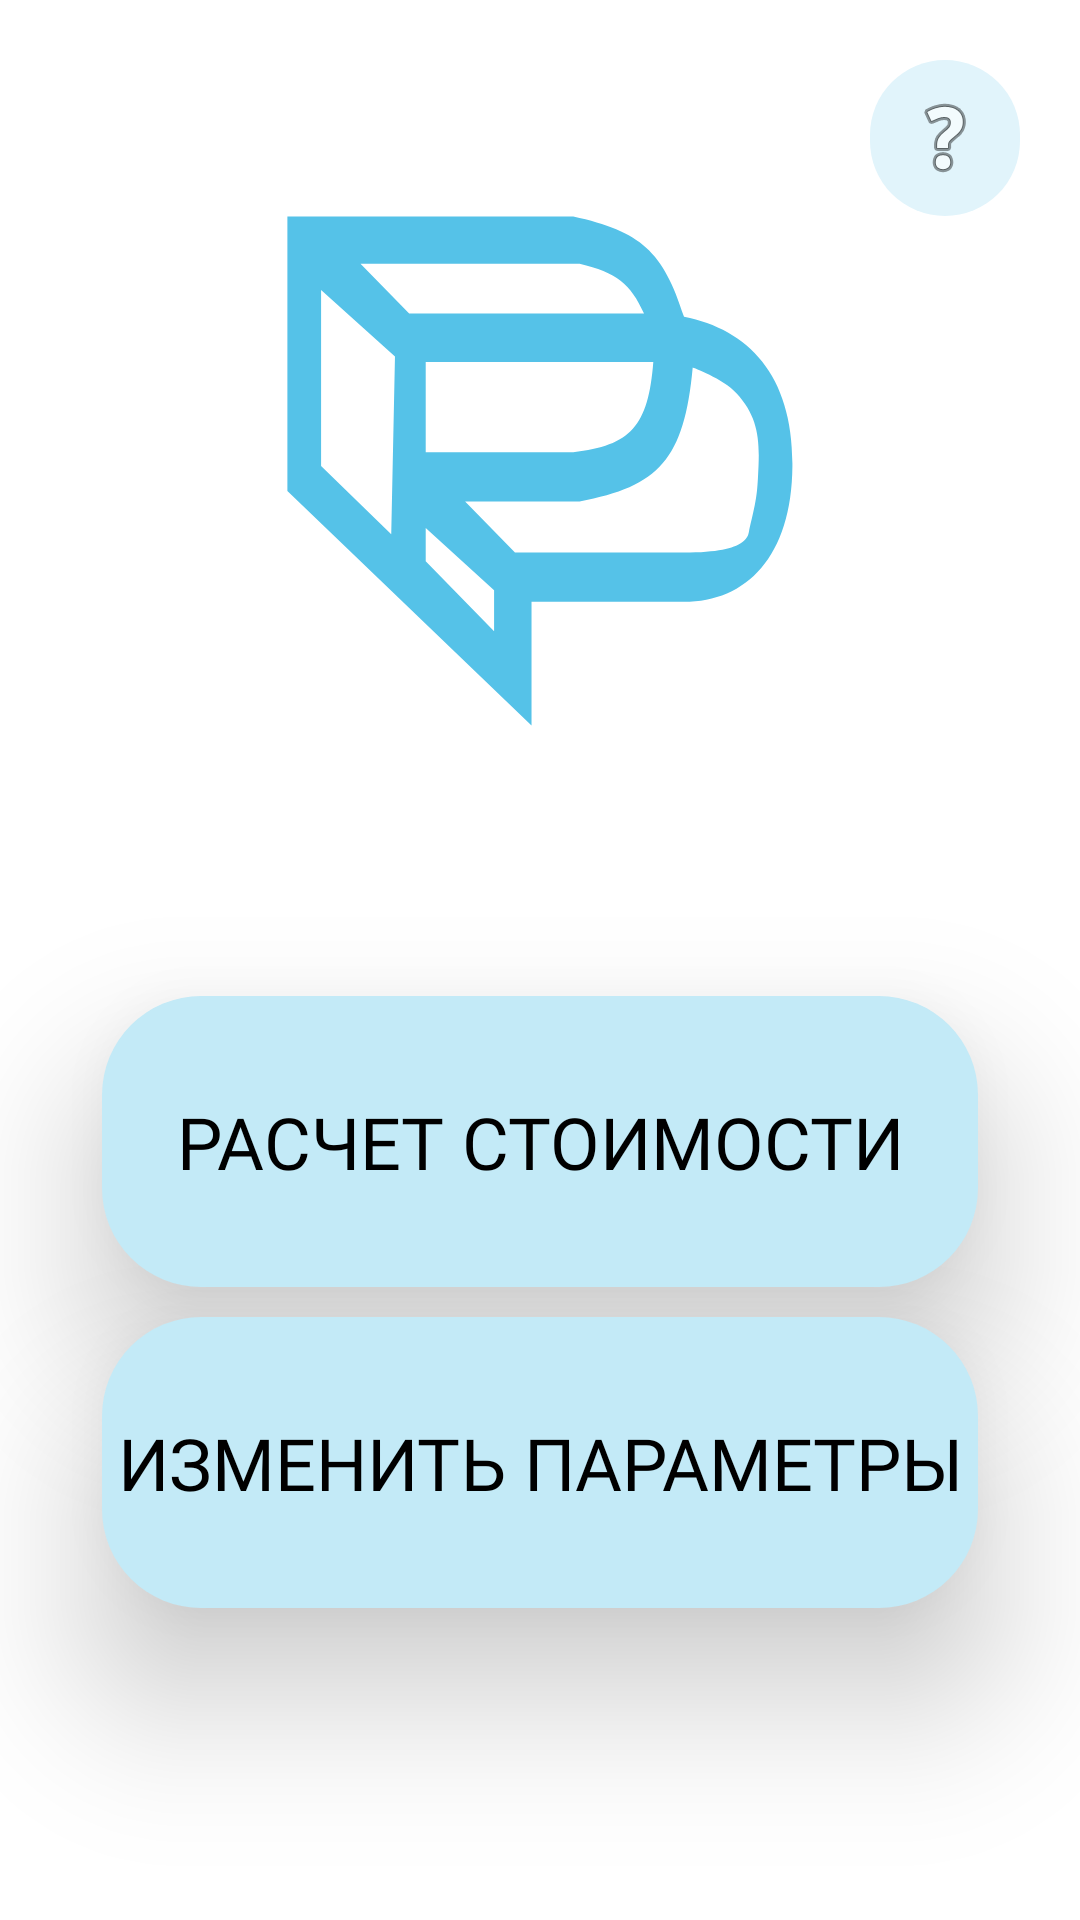

Locate icon controls on the screen. Image size 1080×1920, boxes as (x1, y1, x2, y2).
help: (870, 60, 1020, 216)
